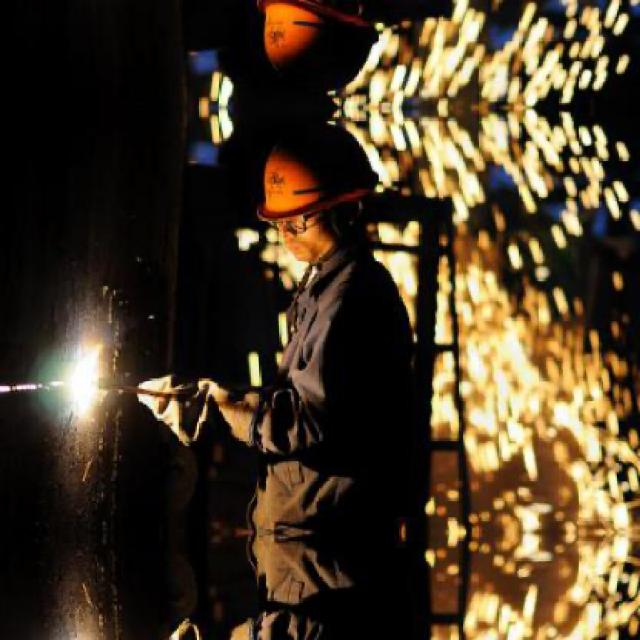con casco: (201, 178, 432, 293)
